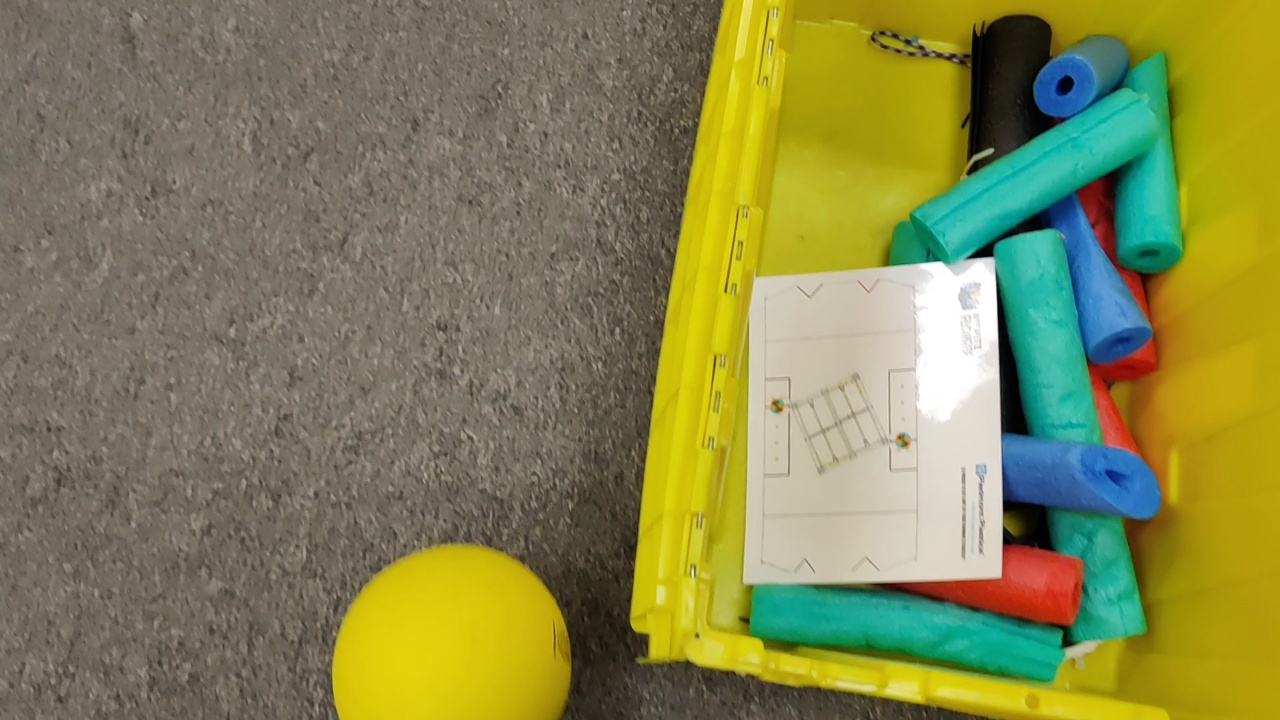Ball: (331, 543, 571, 718)
